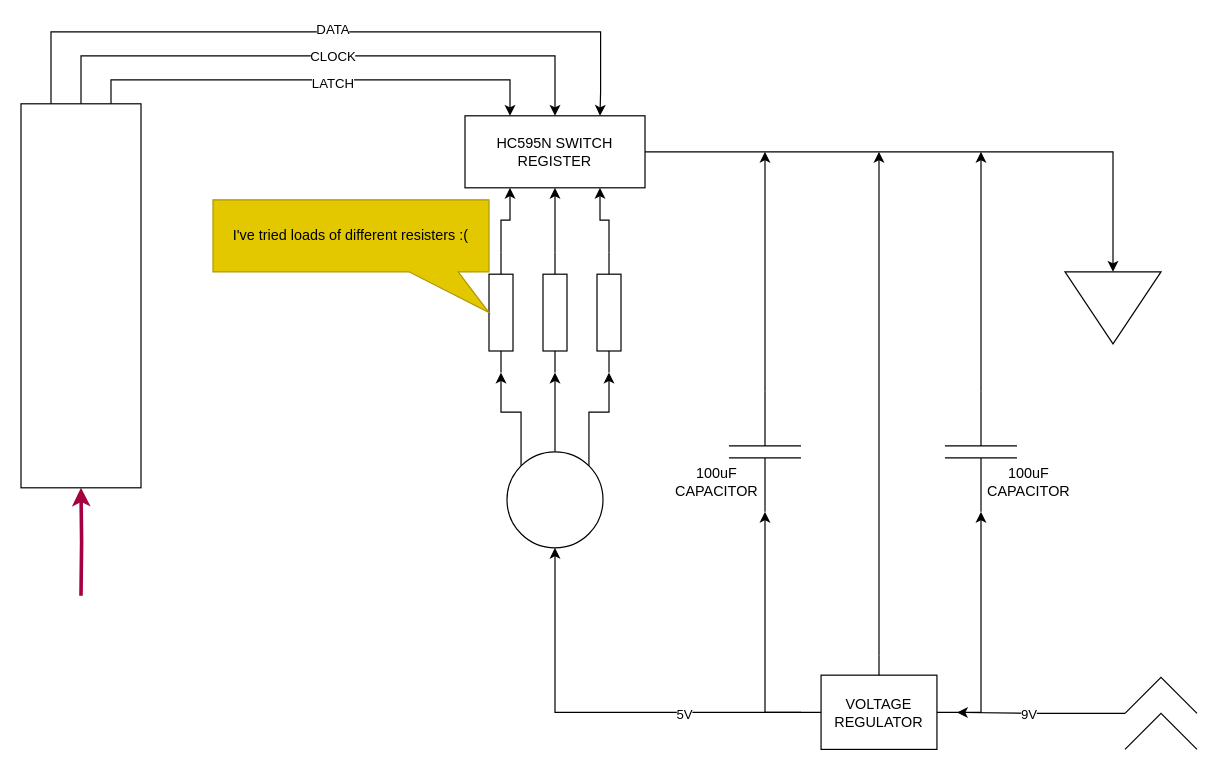
Some shapes in this 1218 by 770 pixel diagram are drawn without their labels. The centre of each missing label's shape, as x and y in pixels:
GND: the point at 1112,307
RGB LED: the point at 554,499
TEENSY 4.1: the point at 80,295
